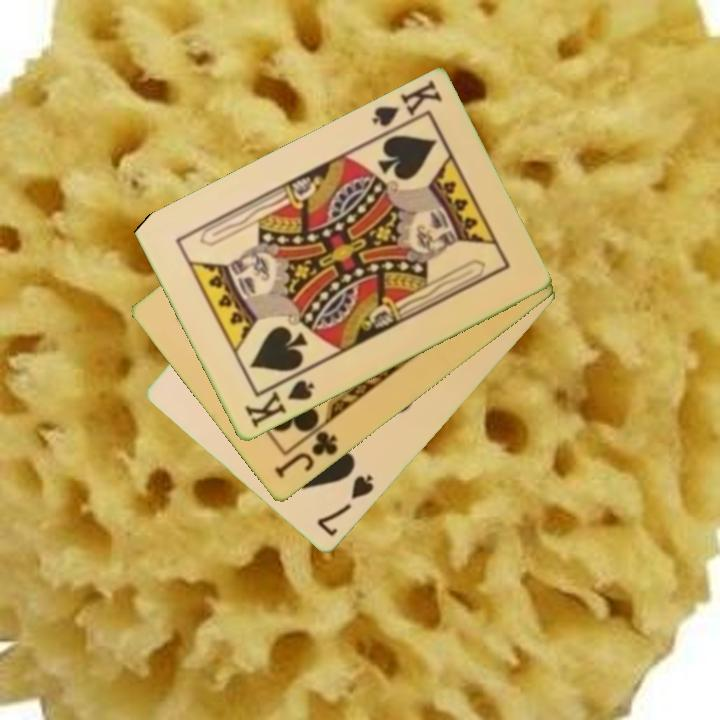7s: (313, 471, 377, 540)
Jc: (270, 427, 341, 482)
Ks: (368, 77, 445, 141), (240, 376, 317, 432)
